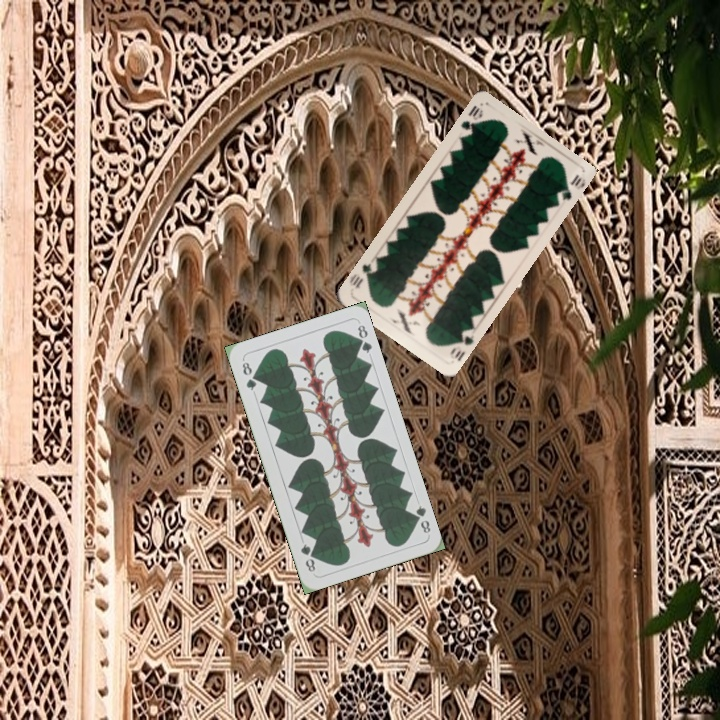G10: (445, 325, 477, 363), (457, 101, 486, 134)
G8: (409, 501, 433, 536), (238, 356, 259, 393)
